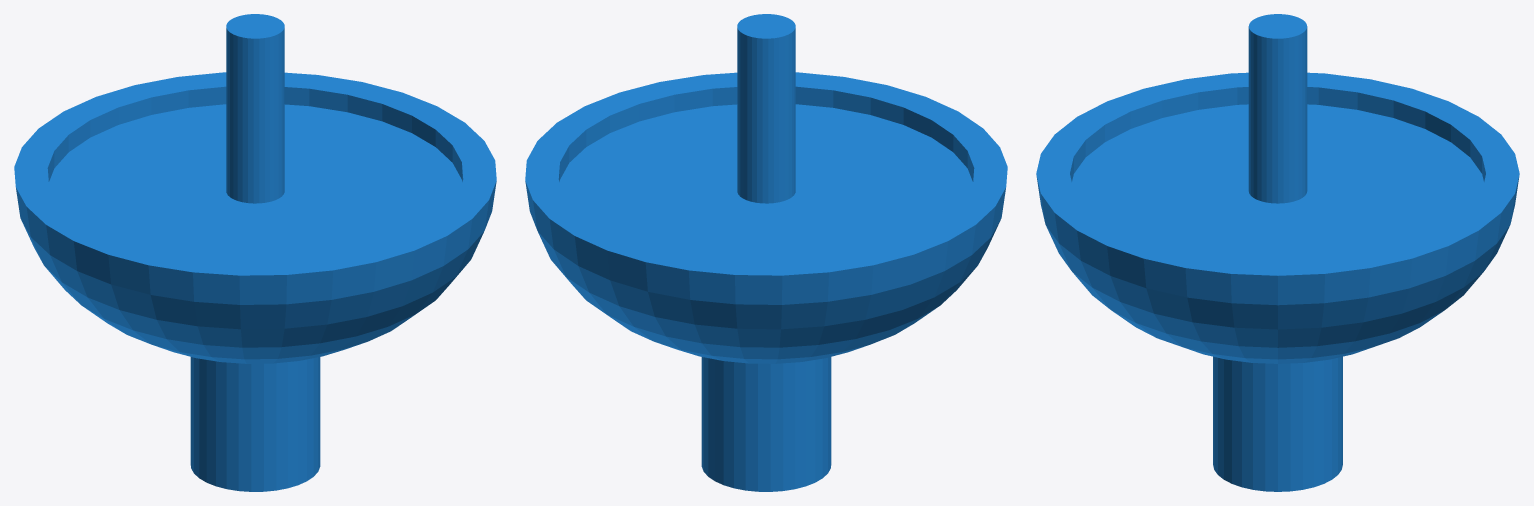
File: fountain.gltf
The picture shows the model from 3 angles, left to right: view 1: azimuth 30°, elevation 25°; view 2: azimuth 150°, elevation 25°; view 3: azimuth 270°, elevation 25°; orthographic projection.
Visible parts, largest first — view 1: Cylinder; view 2: Cylinder; view 3: Cylinder.
Boxes of the visible parts, left/top/right/bottom form: Cylinder: left=14, top=14, right=496, bottom=491; Cylinder: left=525, top=14, right=1007, bottom=491; Cylinder: left=1036, top=14, right=1519, bottom=491.
Bounding box in the file's own units: 2 × 2 × 2.
